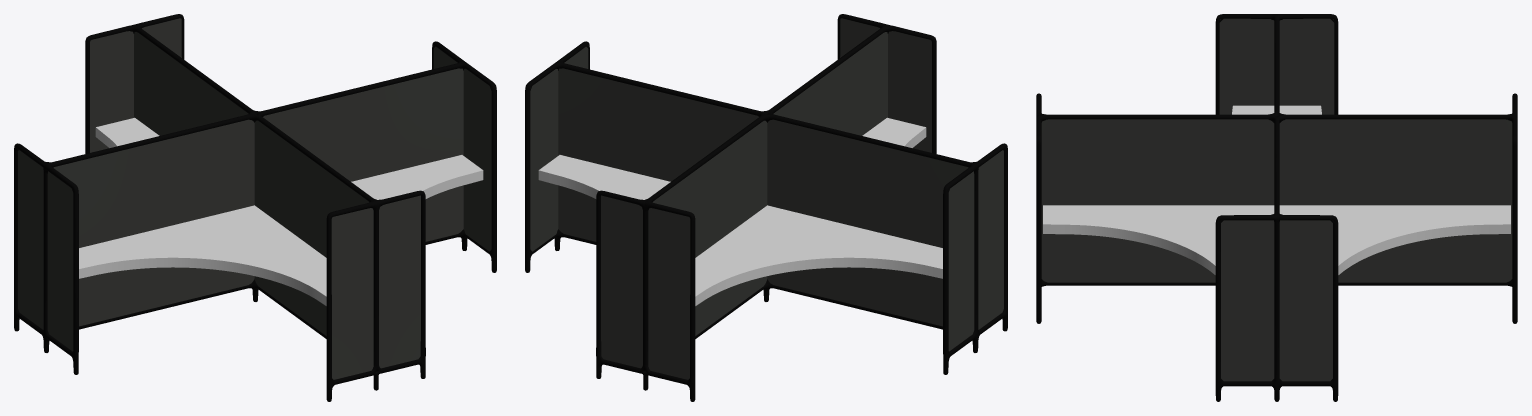
Rendered from CloverCubicle.glb.
The picture shows the model from 3 angles, left to right: view 1: azimuth 30°, elevation 25°; view 2: azimuth 150°, elevation 25°; view 3: azimuth 270°, elevation 25°; orthographic projection.
Parts seen in each view (by area): view 1: Cubicle Wall, CubicleDesk, Cubiclemetal; view 2: Cubicle Wall, CubicleDesk, Cubiclemetal; view 3: Cubicle Wall, CubicleDesk, Cubiclemetal.
Part boxes in pixels (left/top/right/bottom): Cubicle Wall: left=18, top=18, right=491, bottom=379; CubicleDesk: left=79, top=117, right=483, bottom=305; Cubiclemetal: left=14, top=14, right=496, bottom=401; Cubicle Wall: left=530, top=18, right=1003, bottom=379; CubicleDesk: left=538, top=117, right=942, bottom=305; Cubiclemetal: left=525, top=14, right=1007, bottom=401; Cubicle Wall: left=1041, top=18, right=1512, bottom=381; CubicleDesk: left=1043, top=105, right=1510, bottom=274; Cubiclemetal: left=1036, top=14, right=1517, bottom=401.
Size of the model in its own units: 3.96 by 1.69 by 3.96.
Materials: 2 (2 with a texture image).
